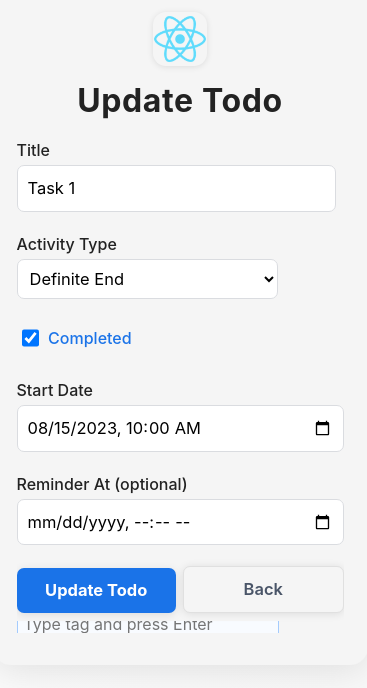
Test: TodoUpdate › removes the completed checkbox when switching activity type to 'regular'
The width and height of the screenshot is (367, 688).
Expected: the field showing "Task 1" is shown, [16,165,336,212]
Select "Regular Activity" in the dropdown labelled "Activity Type" at (147, 279), box [16,259,278,299]
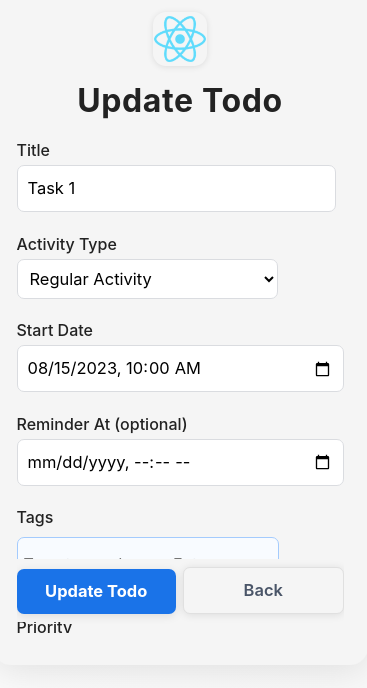
Expected: the label labelled "Completed" is gone
